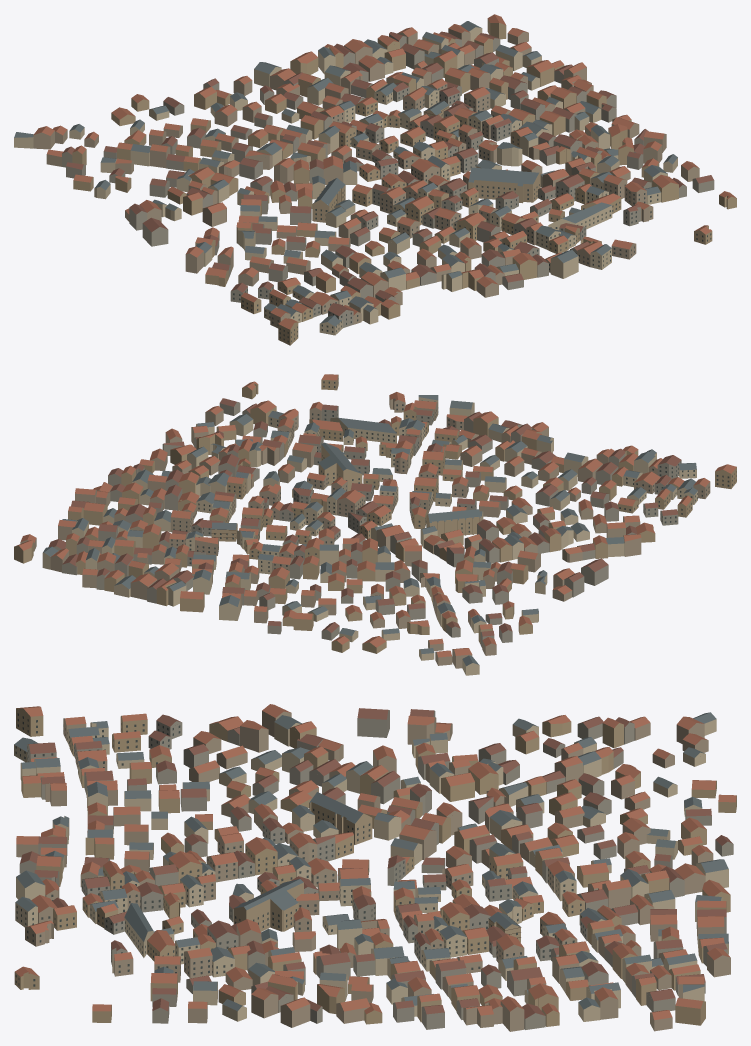
The picture shows the model from 3 angles, top to bottom: view 1: azimuth 30°, elevation 25°; view 2: azimuth 150°, elevation 25°; view 3: azimuth 270°, elevation 25°; orthographic projection. The views are drawn at different scales.
Parts seen in each view (by area): view 1: C_2_2; view 2: C_2_2; view 3: C_2_2.
Boxes of the visible parts, box(x1,y1,x2,y2) form: C_2_2: box(14, 14, 736, 345); C_2_2: box(14, 374, 736, 675); C_2_2: box(14, 704, 736, 1031).
Size of the model in its own units: 372 by 17.5 by 371.
